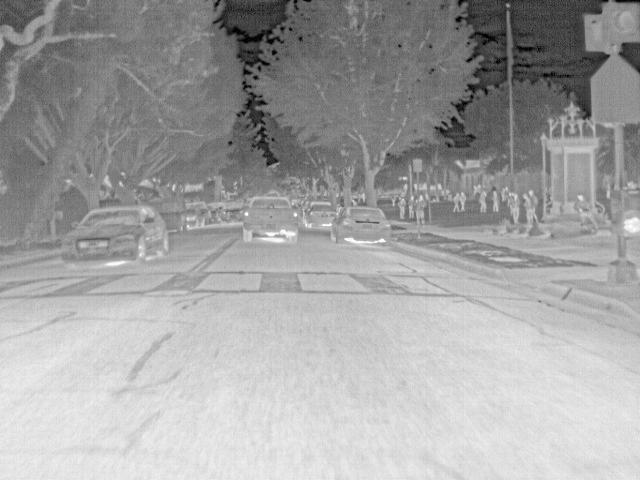car: (59, 203, 169, 269), (240, 195, 296, 244), (331, 206, 392, 248), (158, 198, 187, 232), (305, 202, 335, 230), (195, 202, 212, 227), (211, 203, 228, 223), (227, 201, 243, 220), (186, 204, 199, 227), (293, 198, 309, 214)
person: (575, 190, 594, 228), (527, 189, 539, 225), (521, 192, 534, 225), (415, 194, 428, 226), (507, 191, 519, 225), (476, 190, 490, 216), (405, 193, 418, 221), (489, 187, 502, 213), (459, 189, 467, 214), (397, 194, 405, 219), (499, 184, 511, 200), (452, 190, 460, 214), (360, 192, 368, 204)
